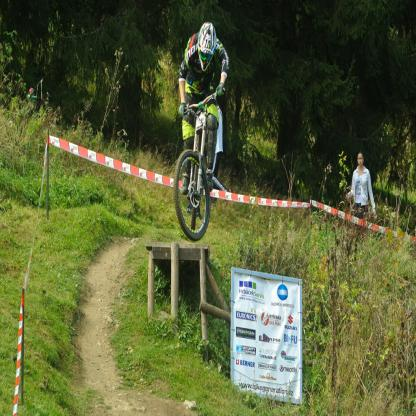Helmet: (196, 20, 218, 70)
